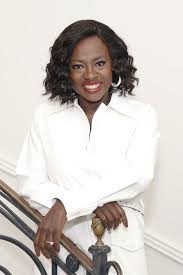person: (43, 19, 136, 103)
